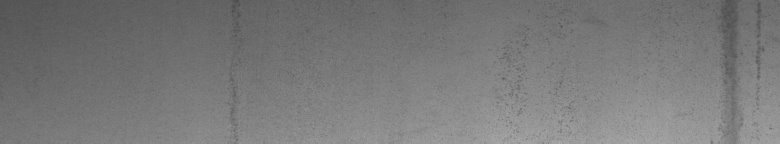ib: (497, 44, 572, 128)
